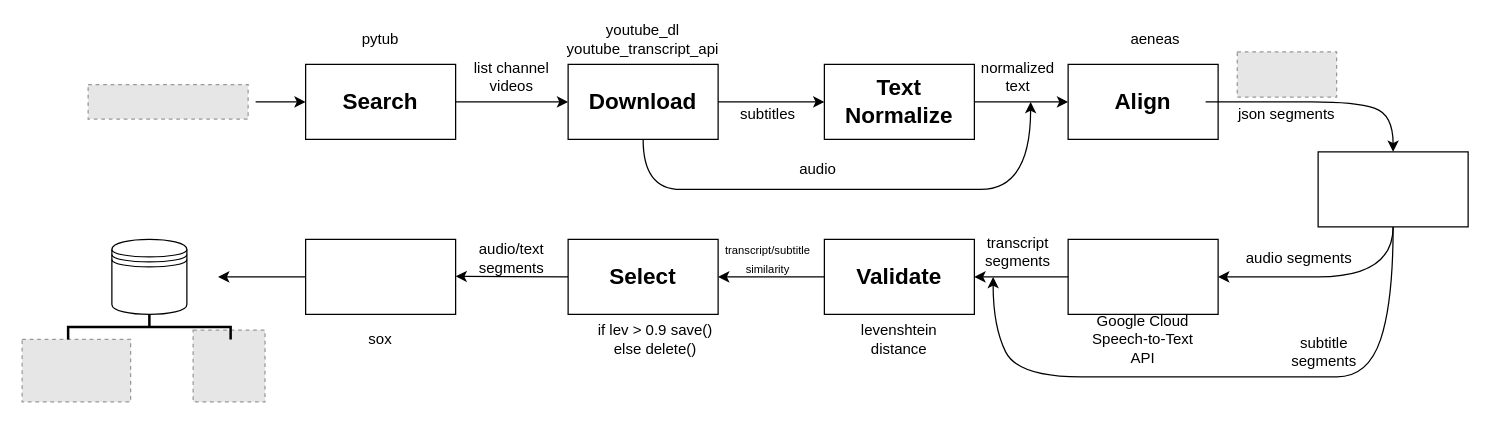
The diagram is 1490 pixels wide and 424 high, and some of its shapes have lost their labels. Grey dashed boxes stand in for pictures. Here are the shapes that lost their labels. From the top down, the centre of each, then its label:
At pixel 1392 189: "Split".
At pixel 380 276: "Audio Normalize".
At pixel 1142 276: "Transcript".
